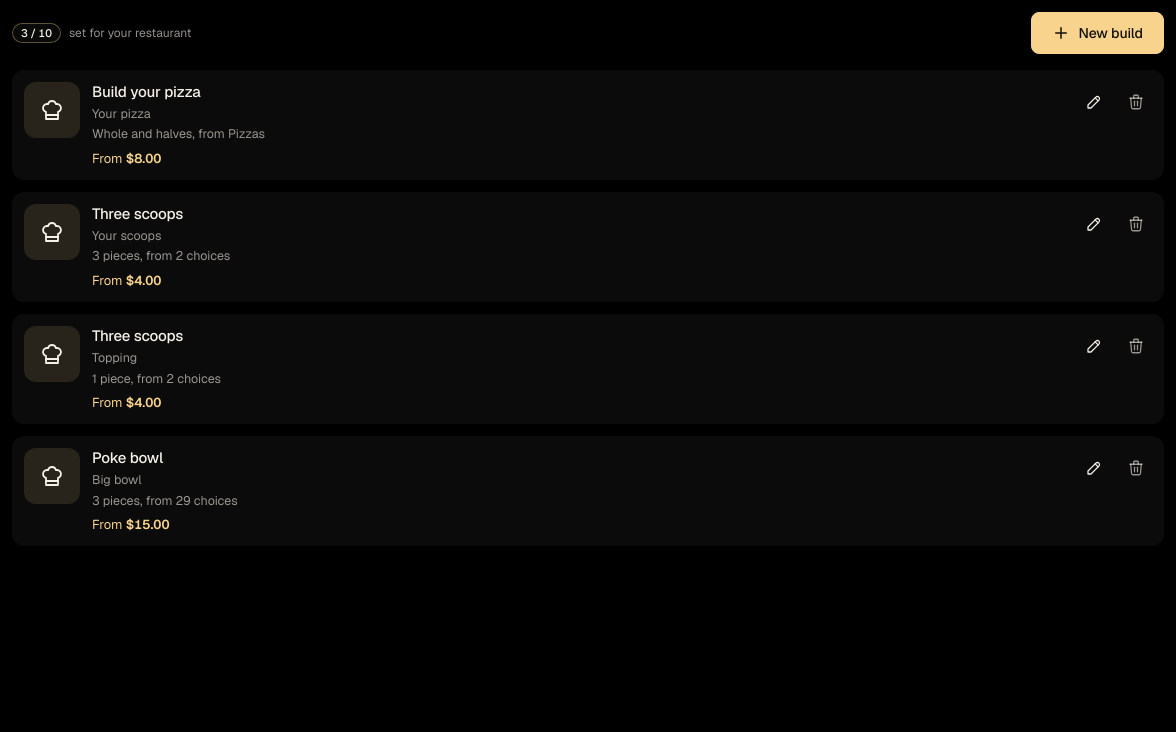
the build editor › offers a pizza priced only by size, with its sizes, and asks no part prices for it
Step 1. Click the button "New build" → (1098, 33), box x1=1031 y1=12 x2=1164 y2=54
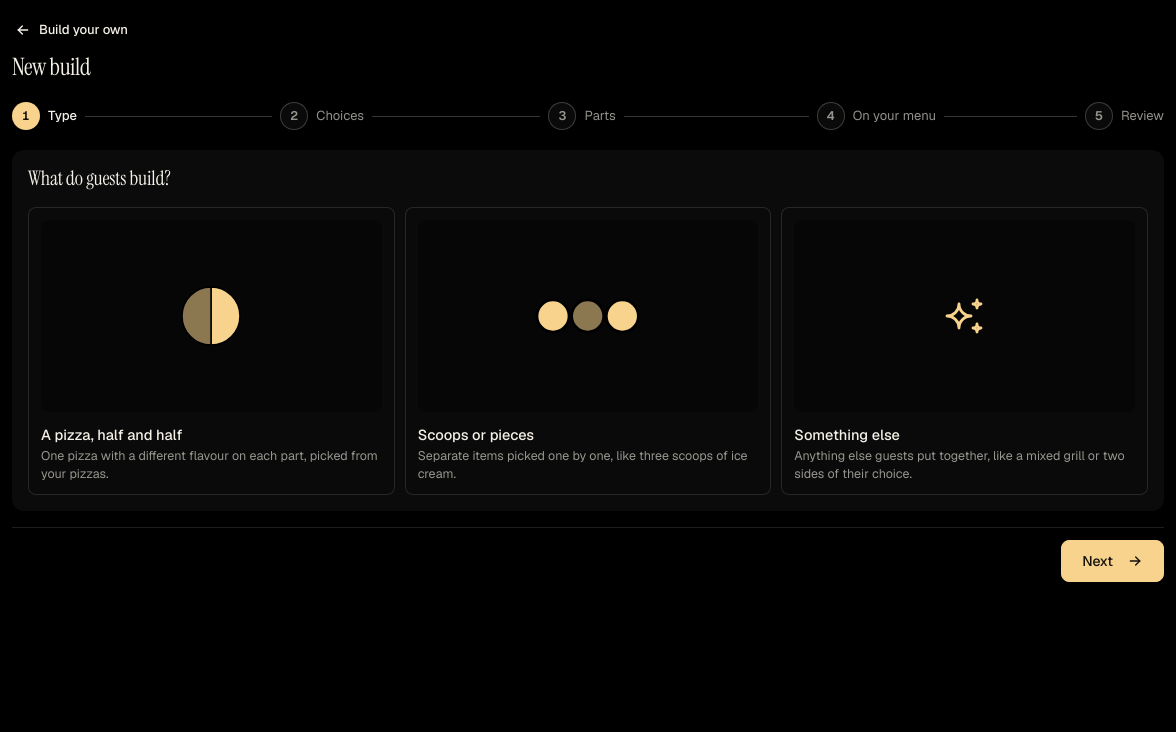
Step 2. Click the radio button labelled "A pizza, half and half" → (211, 351), box x1=28 y1=207 x2=395 y2=495
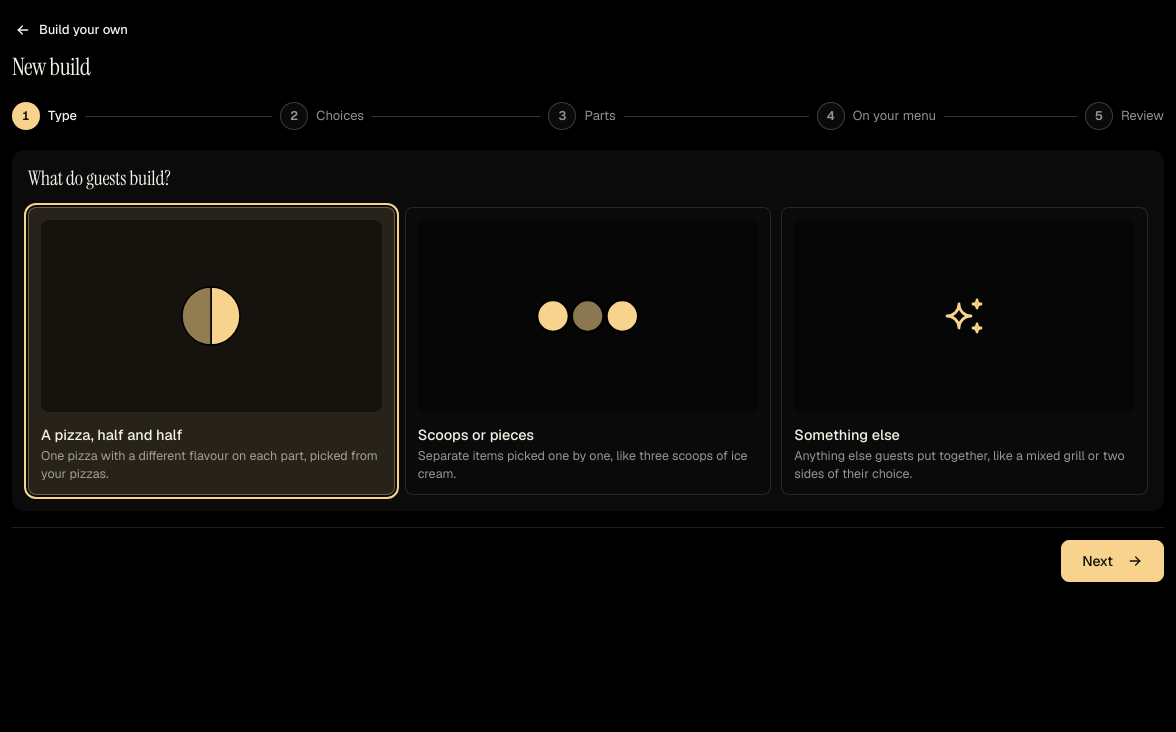
Step 3. Click the button "Next" → (1113, 561), box x1=1061 y1=540 x2=1164 y2=582
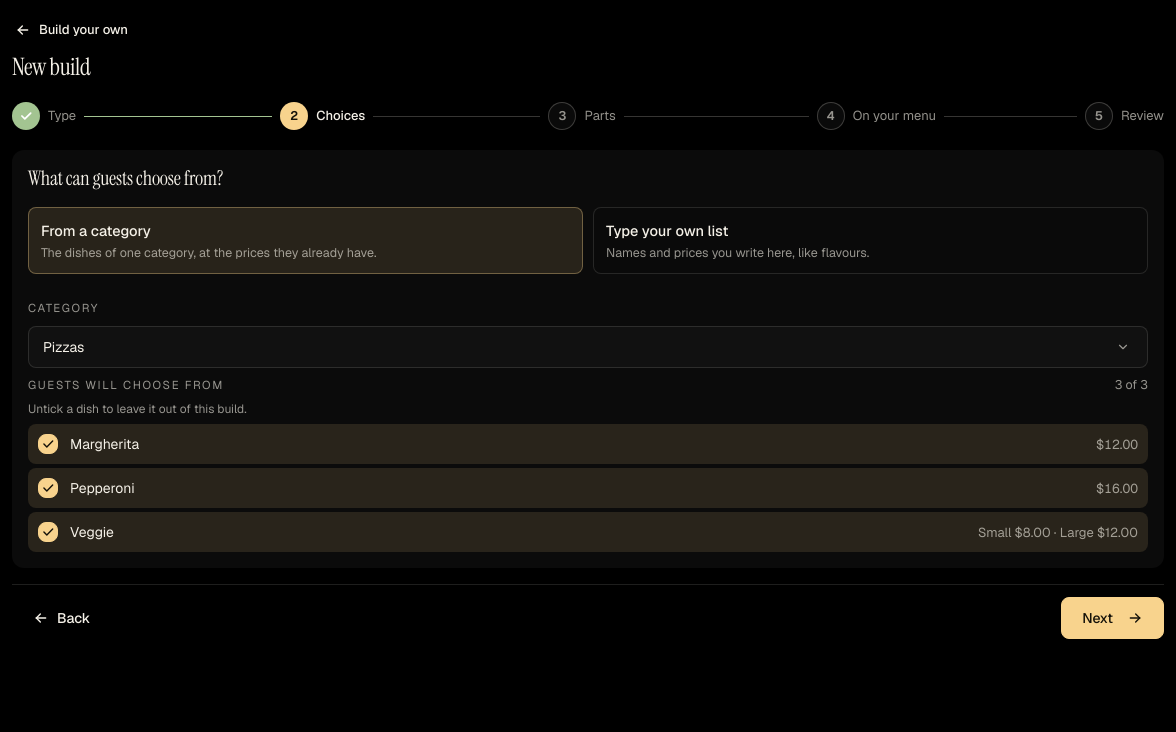
Check: the checkbox labelled "Veggie Small $8.00 · Large $12.00" is shown, box x1=28 y1=512 x2=1148 y2=552
Check: the text "3 of 3" is shown, box x1=1115 y1=376 x2=1148 y2=395
Step 4. Click the button "Next" → (1113, 618), box x1=1061 y1=597 x2=1164 y2=639
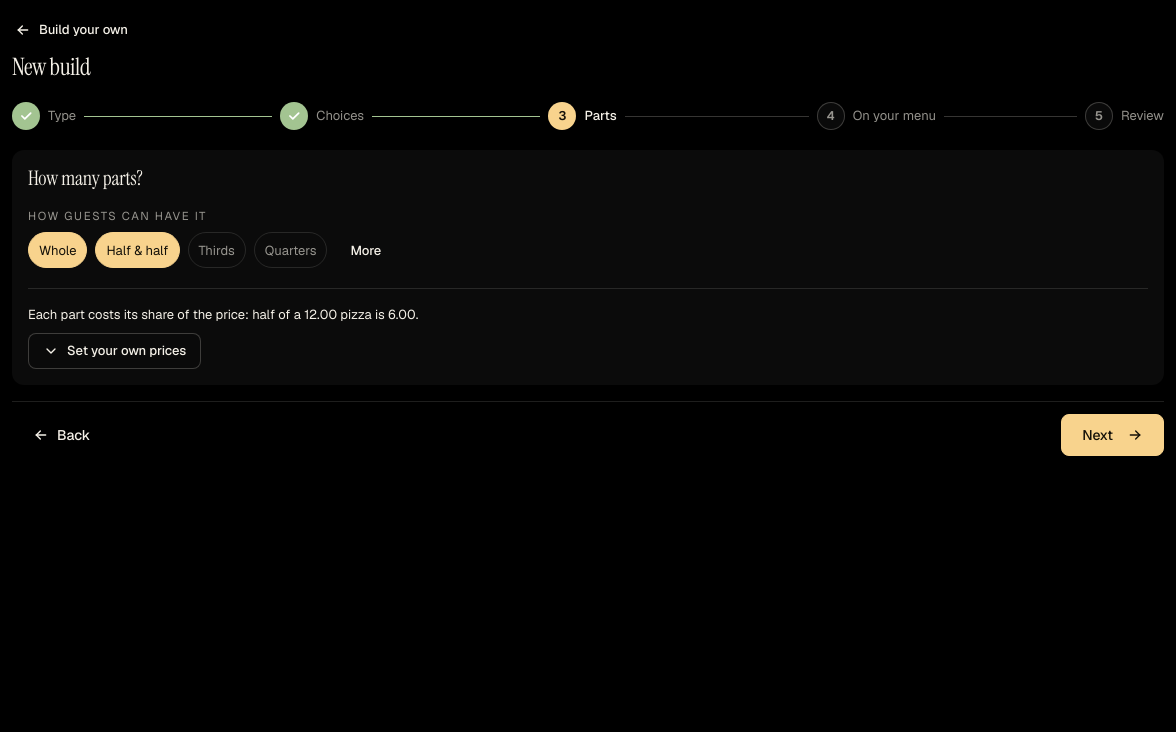
Step 5. Click the button "Set your own prices" → (115, 351), box x1=28 y1=333 x2=201 y2=369
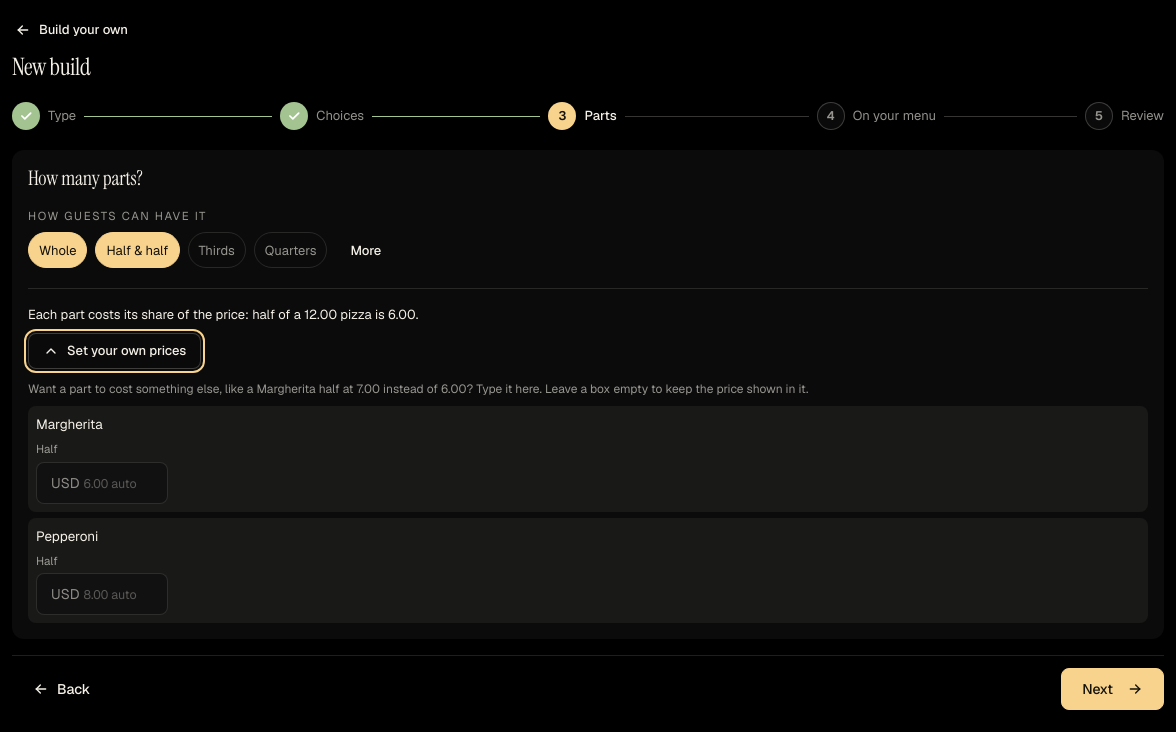
Check: the number field named "Margherita, price for one of 2 parts" is shown, box x1=80 y1=463 x2=167 y2=503
